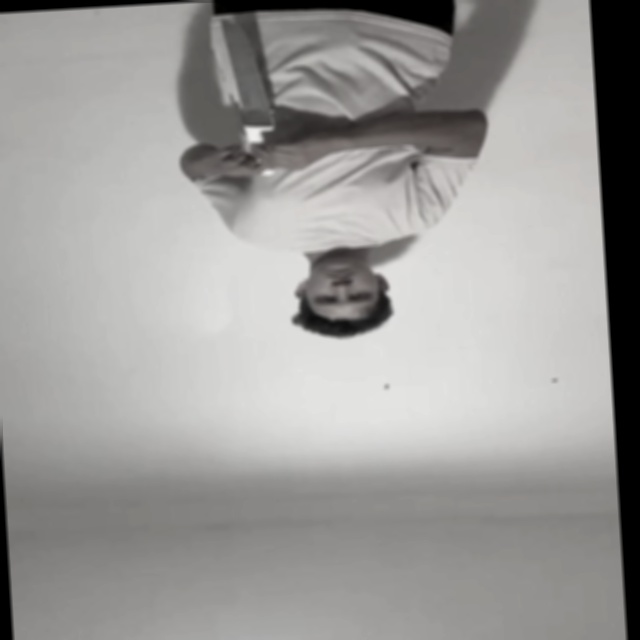Sharp-Object: (216, 18, 278, 130)
